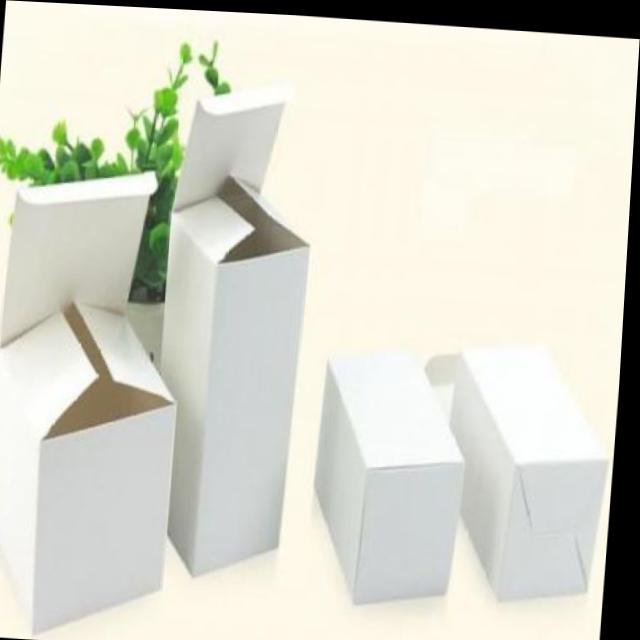box: (0, 157, 201, 640), (146, 73, 327, 584), (428, 280, 628, 640), (303, 331, 485, 616)
